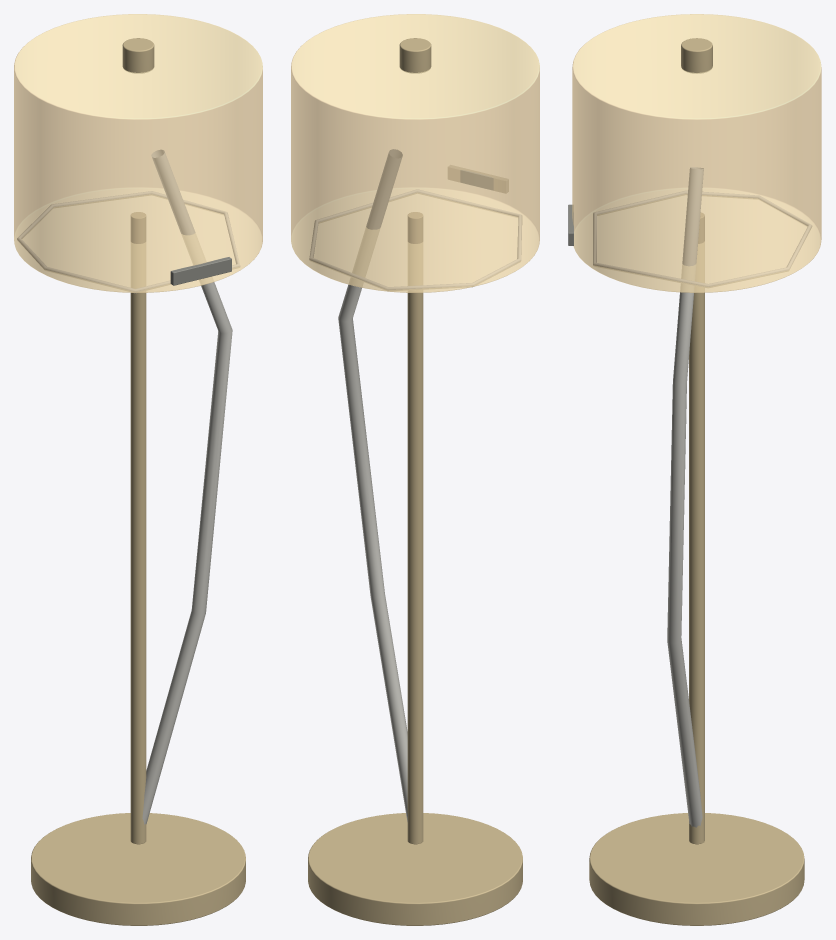
Rendered from room_l2_img2_camera_lamp.glb.
The picture shows the model from 3 angles, left to right: view 1: azimuth 30°, elevation 25°; view 2: azimuth 150°, elevation 25°; view 3: azimuth 270°, elevation 25°; orthographic projection.
Parts seen in each view (by area): view 1: lamp_plain_fabric_shade, lamp_rounded_weighted_base, lamp_slim_champagne_pole, lamp_gallery_soft_arc_support, lamp_shade_warm_woven_lower_rim, lamp_top_small_finial, lamp_rear_tiny_collar_hint; view 2: lamp_plain_fabric_shade, lamp_rounded_weighted_base, lamp_slim_champagne_pole, lamp_gallery_soft_arc_support, lamp_shade_warm_woven_lower_rim, lamp_top_small_finial, lamp_rear_tiny_collar_hint; view 3: lamp_plain_fabric_shade, lamp_rounded_weighted_base, lamp_gallery_soft_arc_support, lamp_slim_champagne_pole, lamp_shade_warm_woven_lower_rim, lamp_top_small_finial.
Part boxes in pixels (bbox=[...]): lamp_plain_fabric_shade: bbox=[14, 14, 262, 292]; lamp_rounded_weighted_base: bbox=[31, 813, 245, 925]; lamp_slim_champagne_pole: bbox=[130, 212, 146, 844]; lamp_gallery_soft_arc_support: bbox=[142, 150, 232, 824]; lamp_shade_warm_woven_lower_rim: bbox=[17, 191, 240, 293]; lamp_top_small_finial: bbox=[122, 38, 154, 73]; lamp_rear_tiny_collar_hint: bbox=[170, 257, 231, 285]; lamp_plain_fabric_shade: bbox=[291, 14, 539, 292]; lamp_rounded_weighted_base: bbox=[308, 813, 522, 925]; lamp_slim_champagne_pole: bbox=[407, 212, 423, 844]; lamp_gallery_soft_arc_support: bbox=[338, 149, 407, 821]; lamp_shade_warm_woven_lower_rim: bbox=[309, 189, 521, 290]; lamp_top_small_finial: bbox=[399, 38, 431, 73]; lamp_rear_tiny_collar_hint: bbox=[448, 165, 508, 192]; lamp_plain_fabric_shade: bbox=[572, 14, 821, 292]; lamp_rounded_weighted_base: bbox=[589, 813, 804, 925]; lamp_gallery_soft_arc_support: bbox=[667, 167, 703, 827]; lamp_slim_champagne_pole: bbox=[689, 212, 704, 844]; lamp_shade_warm_woven_lower_rim: bbox=[593, 191, 811, 287]; lamp_top_small_finial: bbox=[681, 38, 712, 73].
Size of the model in its own units: 0.44 by 1.63 by 0.447.
